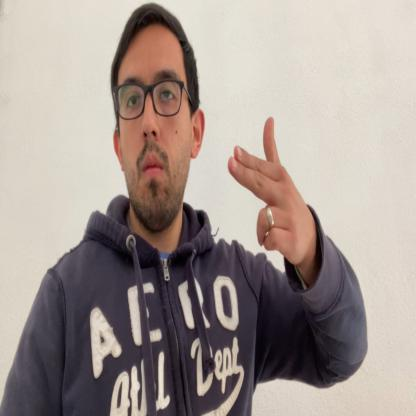H: (226, 112, 310, 264)
